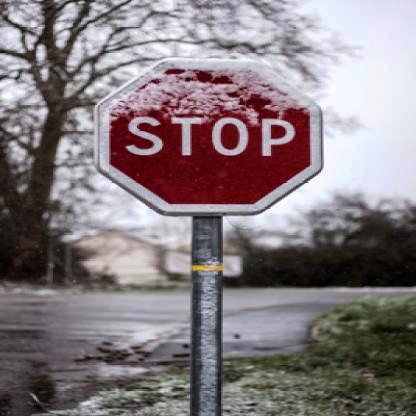Stop Sign: (96, 42, 332, 223)
